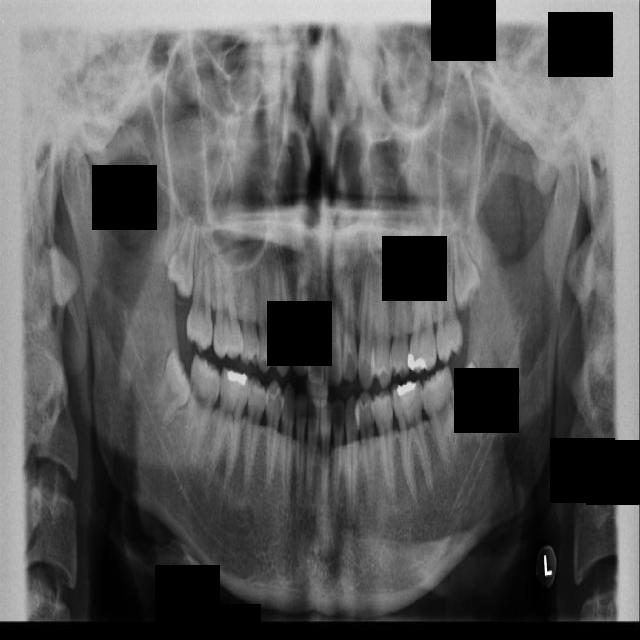3M ESPE Implant: (164, 204, 200, 300)
52: (213, 365, 255, 413), (406, 329, 441, 375), (389, 378, 427, 420)
73: (623, 604, 629, 617)
BioHorizons Implant: (428, 230, 466, 368)
BioLife Implant: (444, 210, 485, 313)
Biomet 3i Implant: (444, 360, 495, 446)
Blue Sky Bio Implant: (416, 365, 473, 477)
Caries: (186, 227, 215, 355)
Implant: (178, 352, 226, 472)
Keystone Dental Implant: (147, 345, 204, 428)
